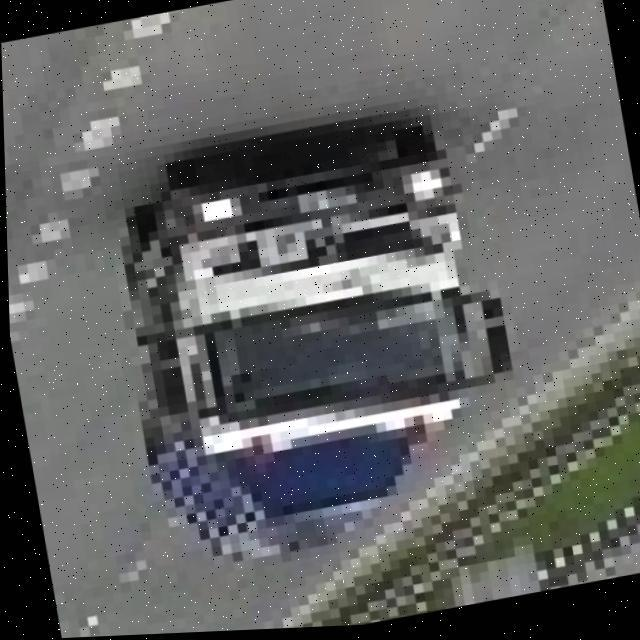truck: (97, 116, 546, 604)
